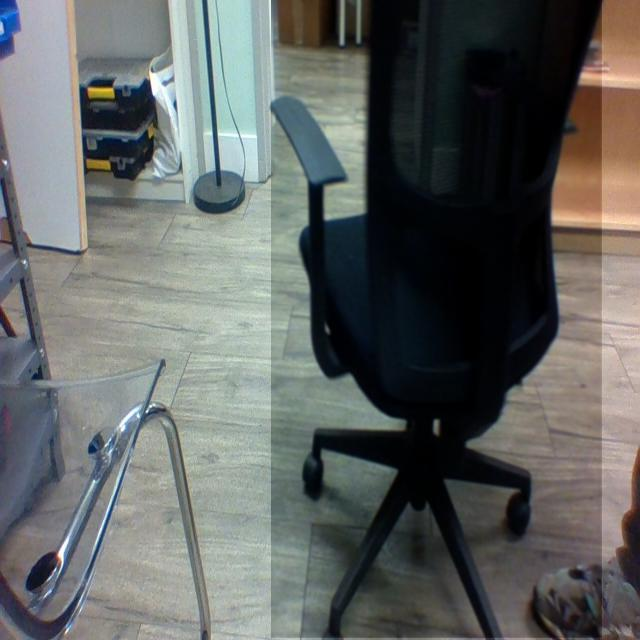chair: (271, 1, 603, 640)
